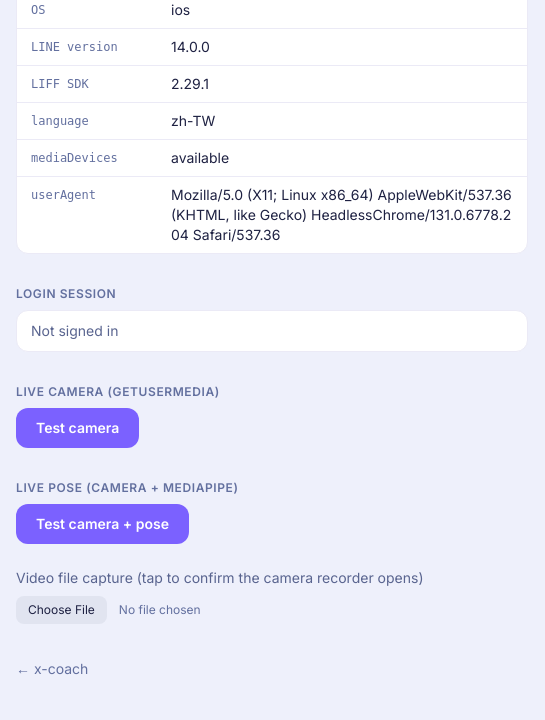
Test case: LiffDiag page › runs the pose probe and reports the metrics with a playable verdict
(page scrolled)
Click the button "Test camera + pose".
click(102, 524)  # box [16,504,189,544]
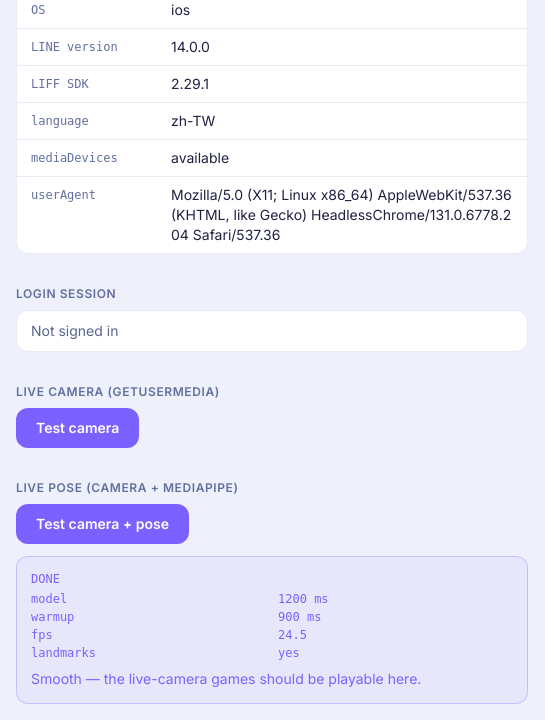
Now the text "24.5" is shown, box [278,628,307,642]
Now the text "1200 ms" is shown, box [278,592,329,606]
Now the text "Smooth — the live-camera games should be playable here." is shown, box [31,670,421,687]
